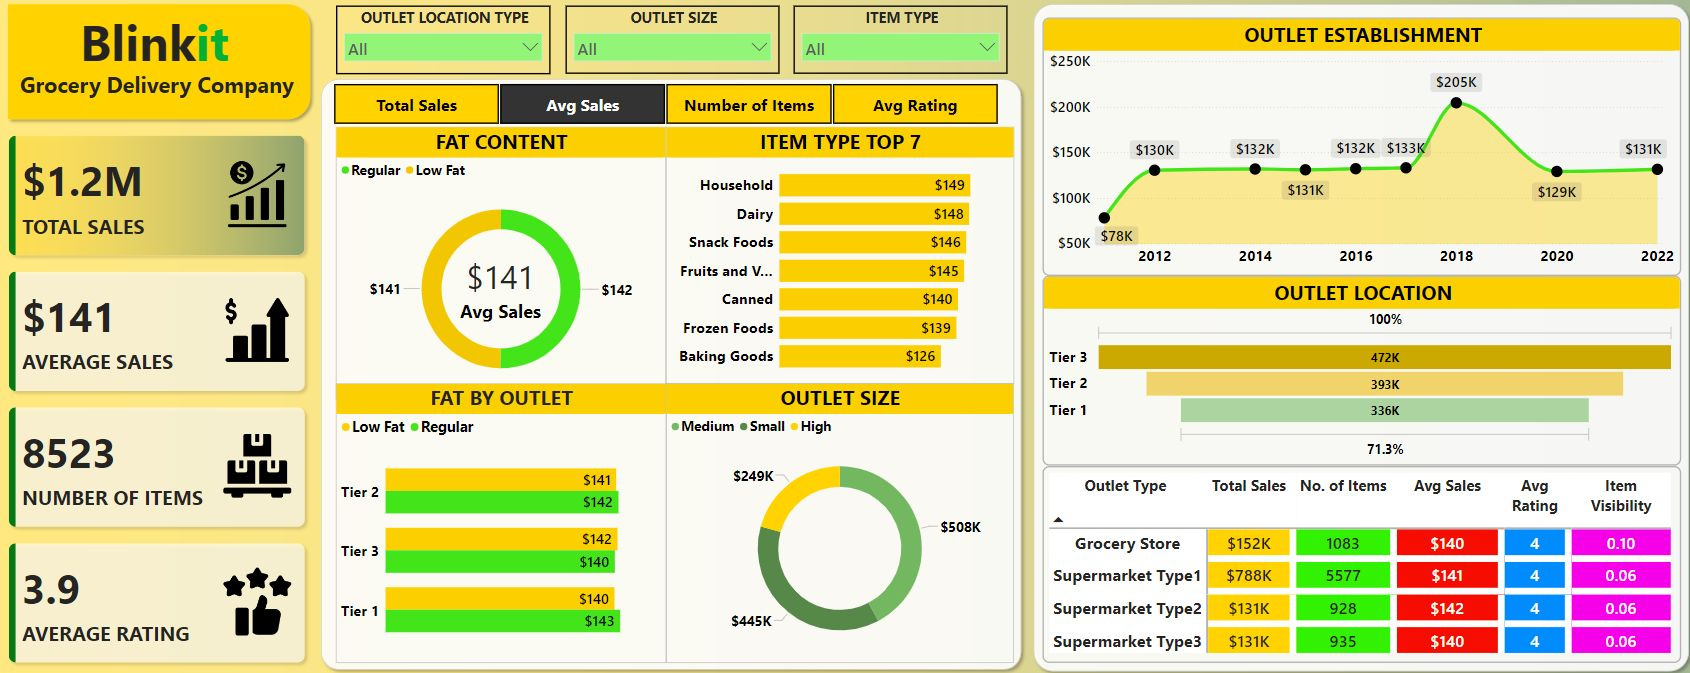

The dashboard page shown, as its layout file describes it:
{"tool":"powerbi","page":{"name":"Page 1","canvas":[2500,1000],"ordinal":0},"visuals":[{"type":"shape","box":[6.6,0,463.9,187.8],"z":0},{"type":"textbox","box":[28.7,8.8,406.5,117.1],"z":1000},{"type":"textbox","box":[28.7,99.4,426.4,57.4],"z":2000},{"type":"cardVisual","fields":{"Data":["BlinkIT Grocery Data.Total Sales","BlinkIT Grocery Data.Avg Sales","BlinkIT Grocery Data.Number of Items","BlinkIT Grocery Data.Avg Rating"]},"box":[0,186.3,470.2,813.3],"z":3000},{"type":"shape","box":[469.1,111,1049.1,887.7],"z":4000},{"type":"donutChart","title":"FAT CONTENT","fields":{"Y":["BlinkIT Grocery Data.Total Sales","BlinkIT Grocery Data.Avg Sales","BlinkIT Grocery Data.Number of Items","BlinkIT Grocery Data.Avg Rating"],"Category":["BlinkIT Grocery Data.Item Fat Content"]},"box":[499.3,190,486,402.1],"z":5000},{"type":"slicer","title":"FAT CONTENT","fields":{"Values":["Metric .Metric "]},"box":[470.6,119.3,1027.3,72.9],"z":6000},{"type":"card","fields":{"Values":["BlinkIT Grocery Data.Total Sales"]},"box":[667.2,371.1,148,110.5],"z":7000},{"type":"clusteredBarChart","title":"FAT BY OUTLET","fields":{"Y":["BlinkIT Grocery Data.Total Sales"],"Category":["BlinkIT Grocery Data.Outlet Location Type"],"Series":["BlinkIT Grocery Data.Item Fat Content"]},"box":[499.3,567.4,486.7,411.1],"z":8000},{"type":"barChart","title":"ITEM TYPE TOP 7","fields":{"Y":["BlinkIT Grocery Data.Total Sales","BlinkIT Grocery Data.Avg Sales","BlinkIT Grocery Data.Number of Items","BlinkIT Grocery Data.Avg Rating"],"Category":["BlinkIT Grocery Data.Item Type"]},"box":[985.3,190,512.5,377.8],"z":9000},{"type":"shape","box":[1517.7,0,983.1,1000.8],"z":10000},{"type":"lineChart","title":"OUTLET ESTABLISHMENT","fields":{"Category":["BlinkIT Grocery Data.Outlet Establishment Year"],"Y":["BlinkIT Grocery Data.Total Sales"]},"box":[1540.9,27.7,940.7,380.8],"z":11000},{"type":"donutChart","title":"OUTLET SIZE","fields":{"Y":["BlinkIT Grocery Data.Total Sales"],"Category":["BlinkIT Grocery Data.Outlet Size"]},"box":[986.1,567.4,511.9,411.1],"z":12000},{"type":"funnel","title":"OUTLET LOCATION","fields":{"Y":["Sum(BlinkIT Grocery Data.Sales)"],"Category":["BlinkIT Grocery Data.Outlet Location Type"]},"box":[1540.9,408.5,940.7,279.9],"z":13000},{"type":"pivotTable","fields":{"Rows":["BlinkIT Grocery Data.Outlet Type"],"Values":["BlinkIT Grocery Data.Total Sales","BlinkIT Grocery Data.Number of Items","BlinkIT Grocery Data.Avg Sales","BlinkIT Grocery Data.Avg Rating","Avg(BlinkIT Grocery Data.Item Visibility)"]},"box":[1540.9,688.5,940.7,290],"z":14000},{"type":"slicer","title":"OUTLET LOCATION TYPE","fields":{"Values":["BlinkIT Grocery Data.Outlet Location Type"]},"box":[499.3,11,315.9,101.6],"z":15000},{"type":"slicer","title":"OUTLET SIZE","fields":{"Values":["BlinkIT Grocery Data.Outlet Size"]},"box":[837.3,10.1,315.2,100.9],"z":16000},{"type":"slicer","title":"ITEM TYPE","fields":{"Values":["BlinkIT Grocery Data.Item Type"]},"box":[1172.7,10.1,315.2,100.9],"z":17000}]}

Visuals, with their boxes in screenshot pixels (x1, y1, x2, y2), scaled from the page's 2500x1000 canvas onto the 1690x673 screenshot:
shape: x1=4 y1=0 x2=318 y2=126
textbox: x1=19 y1=6 x2=294 y2=85
textbox: x1=19 y1=67 x2=308 y2=106
cardVisual - BlinkIT Grocery Data.Total Sales x BlinkIT Grocery Data.Avg Sales: x1=0 y1=125 x2=318 y2=672
shape: x1=317 y1=75 x2=1026 y2=672
"FAT CONTENT" donutChart: x1=338 y1=128 x2=666 y2=398
"FAT CONTENT" slicer: x1=318 y1=80 x2=1013 y2=129
card - BlinkIT Grocery Data.Total Sales: x1=451 y1=250 x2=551 y2=324
"FAT BY OUTLET" clusteredBarChart: x1=338 y1=382 x2=667 y2=659
"ITEM TYPE TOP 7" barChart: x1=666 y1=128 x2=1013 y2=382
shape: x1=1026 y1=0 x2=1689 y2=672
"OUTLET ESTABLISHMENT" lineChart: x1=1042 y1=19 x2=1678 y2=275
"OUTLET SIZE" donutChart: x1=667 y1=382 x2=1013 y2=659
"OUTLET LOCATION" funnel: x1=1042 y1=275 x2=1678 y2=463
pivotTable - BlinkIT Grocery Data.Outlet Type x BlinkIT Grocery Data.Total Sales: x1=1042 y1=463 x2=1678 y2=659
"OUTLET LOCATION TYPE" slicer: x1=338 y1=7 x2=551 y2=76
"OUTLET SIZE" slicer: x1=566 y1=7 x2=779 y2=75
"ITEM TYPE" slicer: x1=793 y1=7 x2=1006 y2=75
